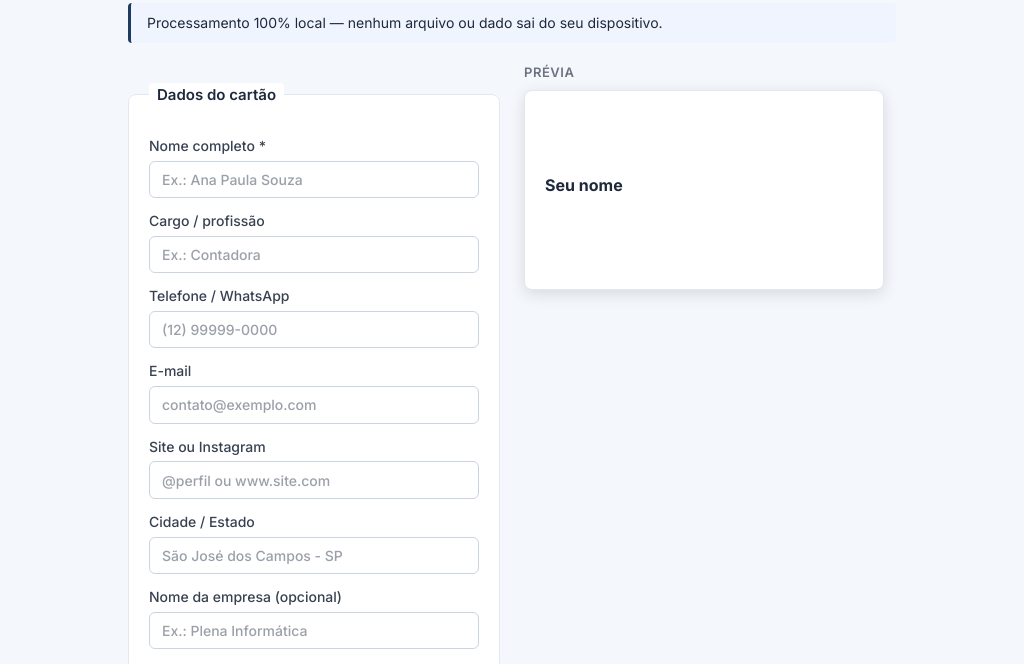
it: BusinessCardCreatorTool — download PNG › exibe mensagem de erro acessível quando generatePng lança exceção
In the field labelled "Nome completo *": (314, 179) [149,161,479,198], type "Carlos"
(page scrolled)
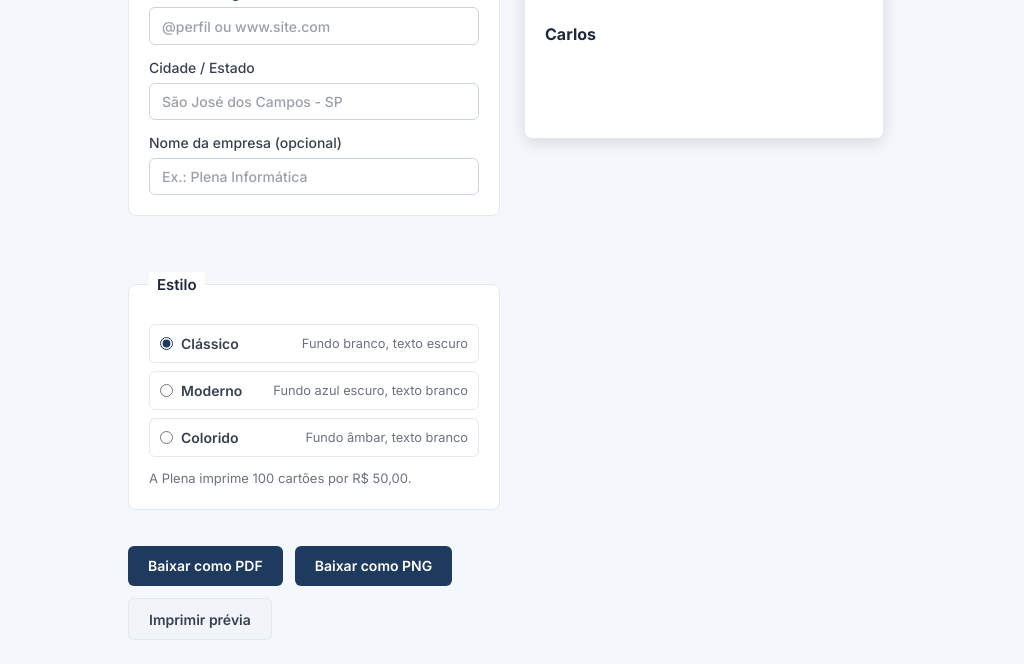
Click the button "Baixar como PNG": (373, 566) [295,546,452,586]
(page scrolled)
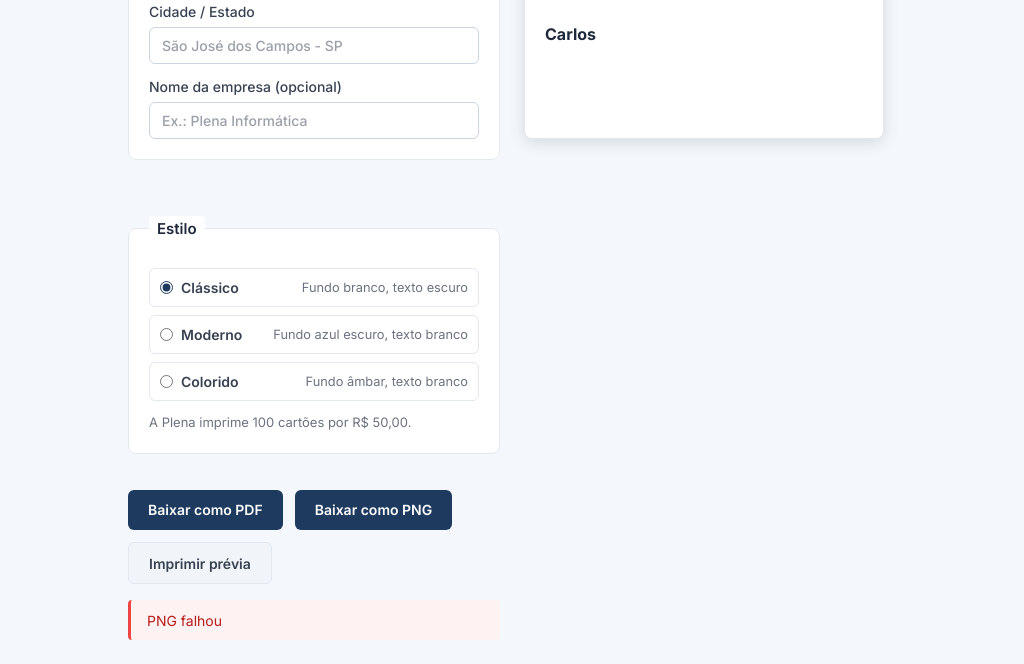
Expected: the text "PNG falhou" is shown, [128,600,500,640]
